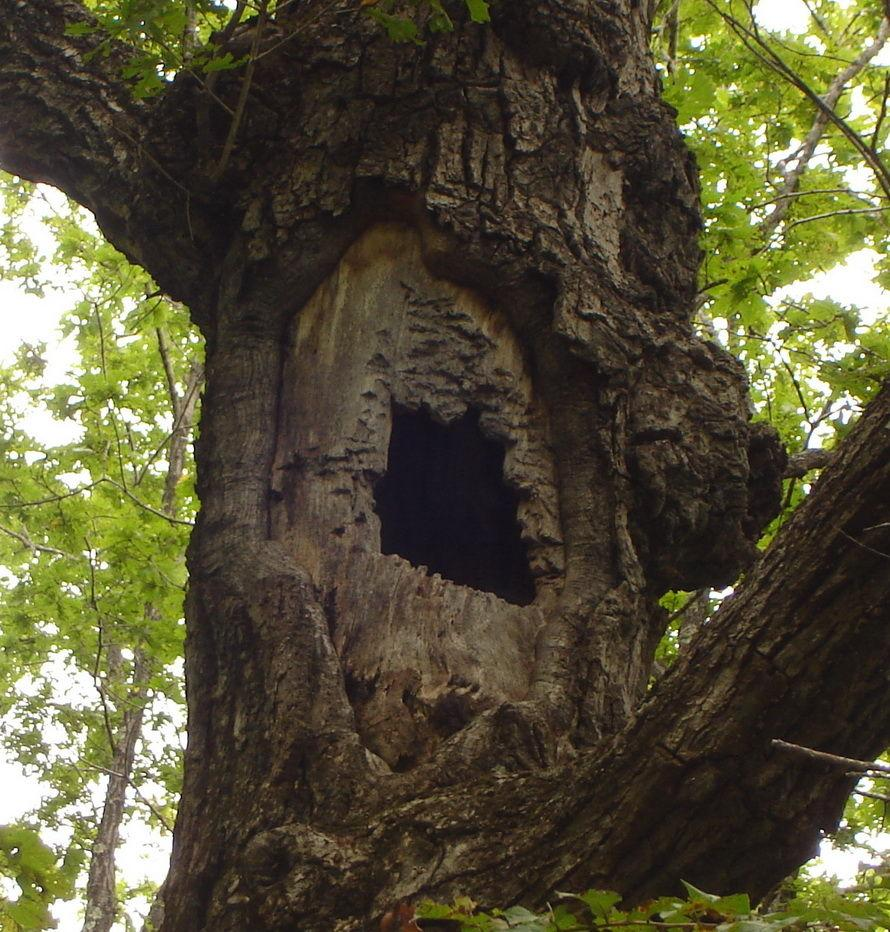hollow: (375, 405, 534, 604)
